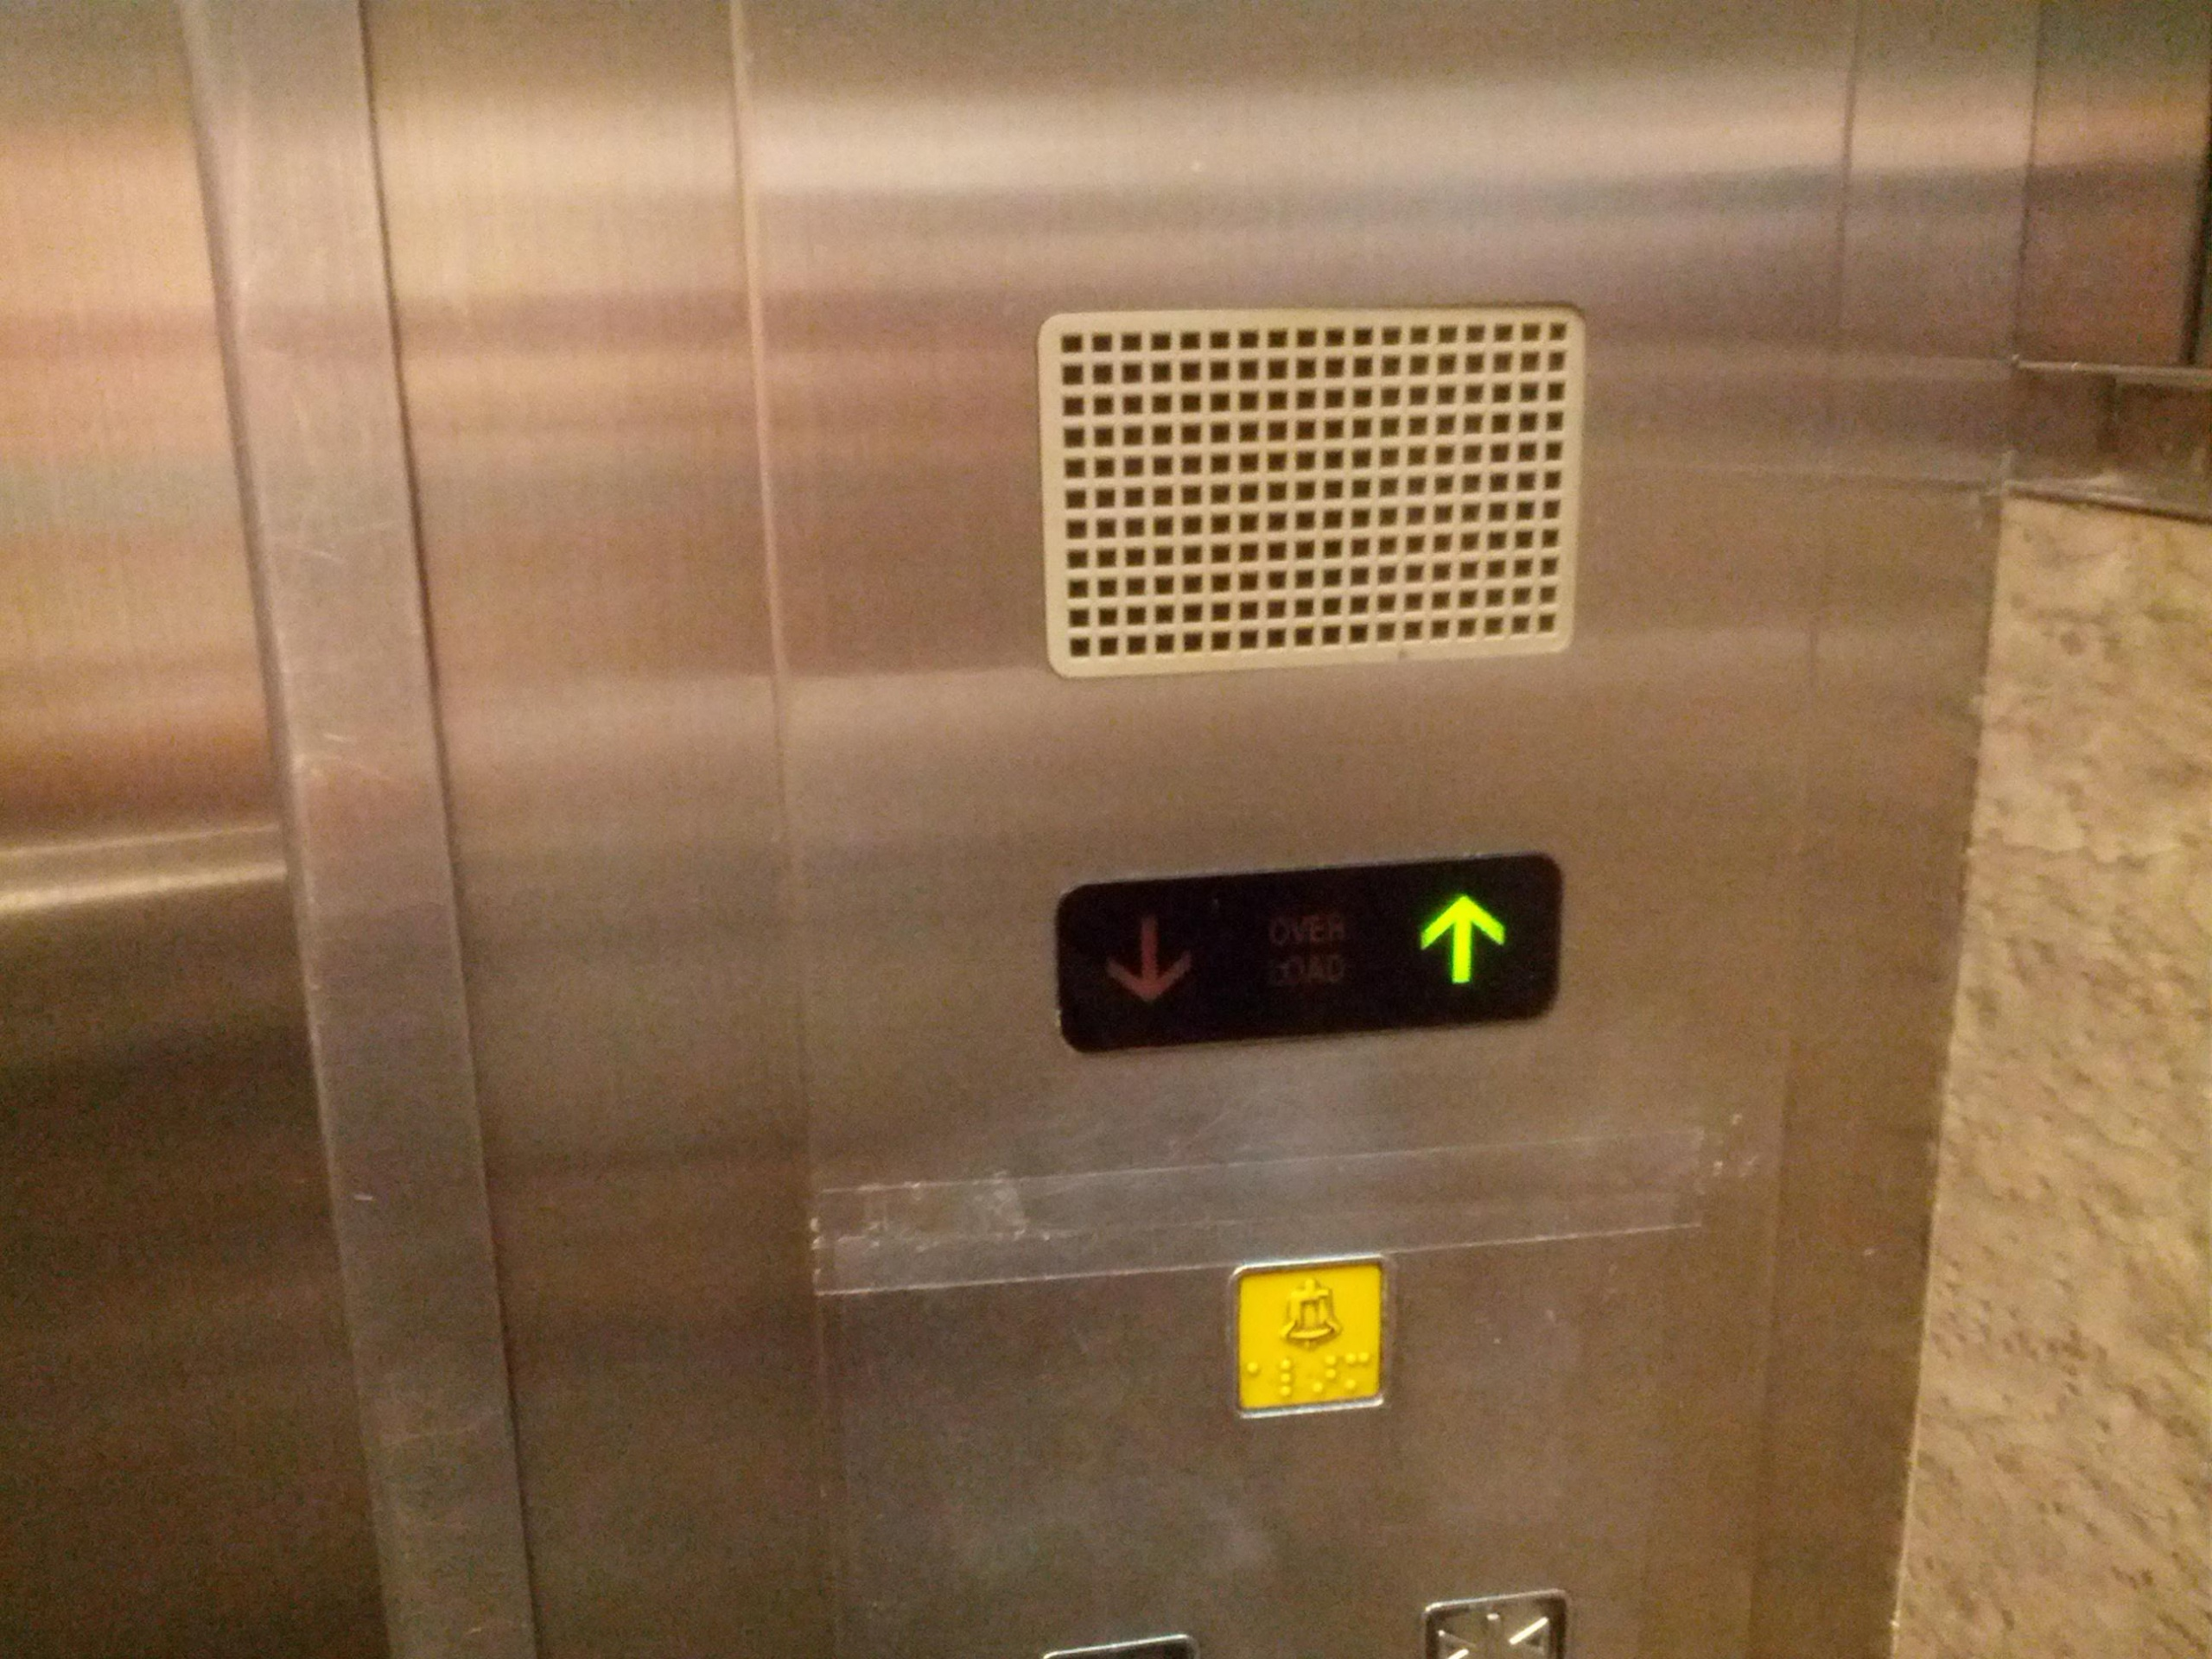alarm: (1226, 1248, 1392, 1429)
